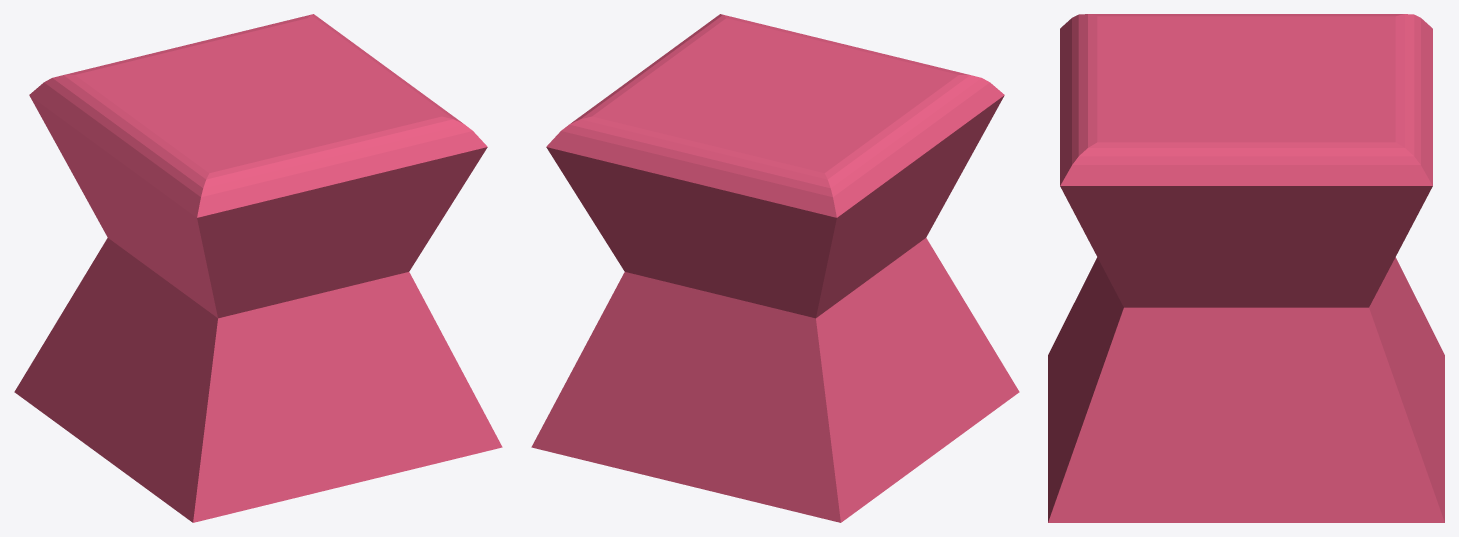
File: UnityTest.fbx
The picture shows the model from 3 angles, left to right: view 1: azimuth 30°, elevation 25°; view 2: azimuth 150°, elevation 25°; view 3: azimuth 270°, elevation 25°; orthographic projection. The views are drawn at different scales.
Visible parts, largest first — view 1: Cube; view 2: Cube; view 3: Cube.
Boxes of the visible parts, x1,y1,x2,y2 form: Cube: (14, 14, 502, 522); Cube: (531, 14, 1019, 522); Cube: (1048, 14, 1444, 522).
Bounding box in the file's own units: 313 × 313 × 313.
